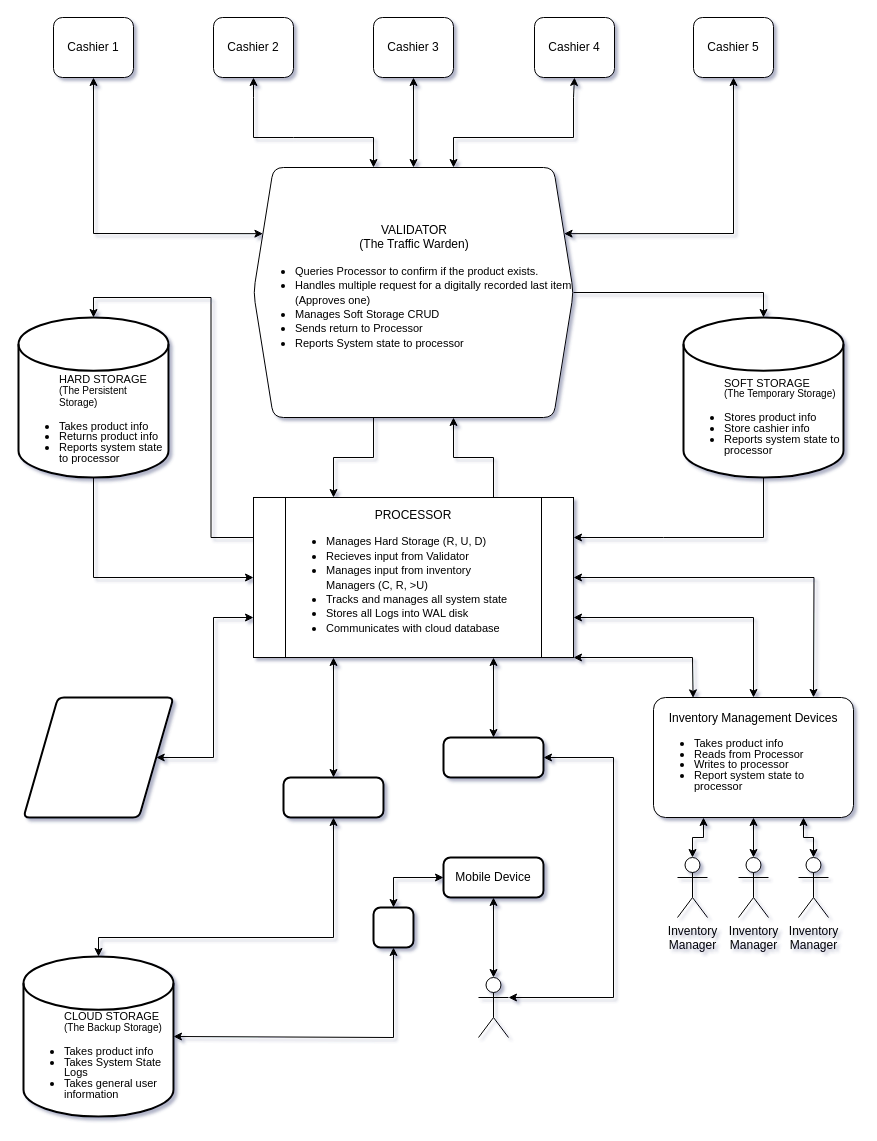
Some shapes in this 877 by 1141 pixel diagram are drawn without their labels. The shapes that lost their labels are listed below. From the top down, each one's centre as x and y in pixels, then its label:
At (98,757): "Write-Ahead Log WAL Disk".
At (493,757): "Onsite Device".
At (333,797): "Sync Queue".
At (393,927): "AUTH".
At (493,1007): "System Admin".
